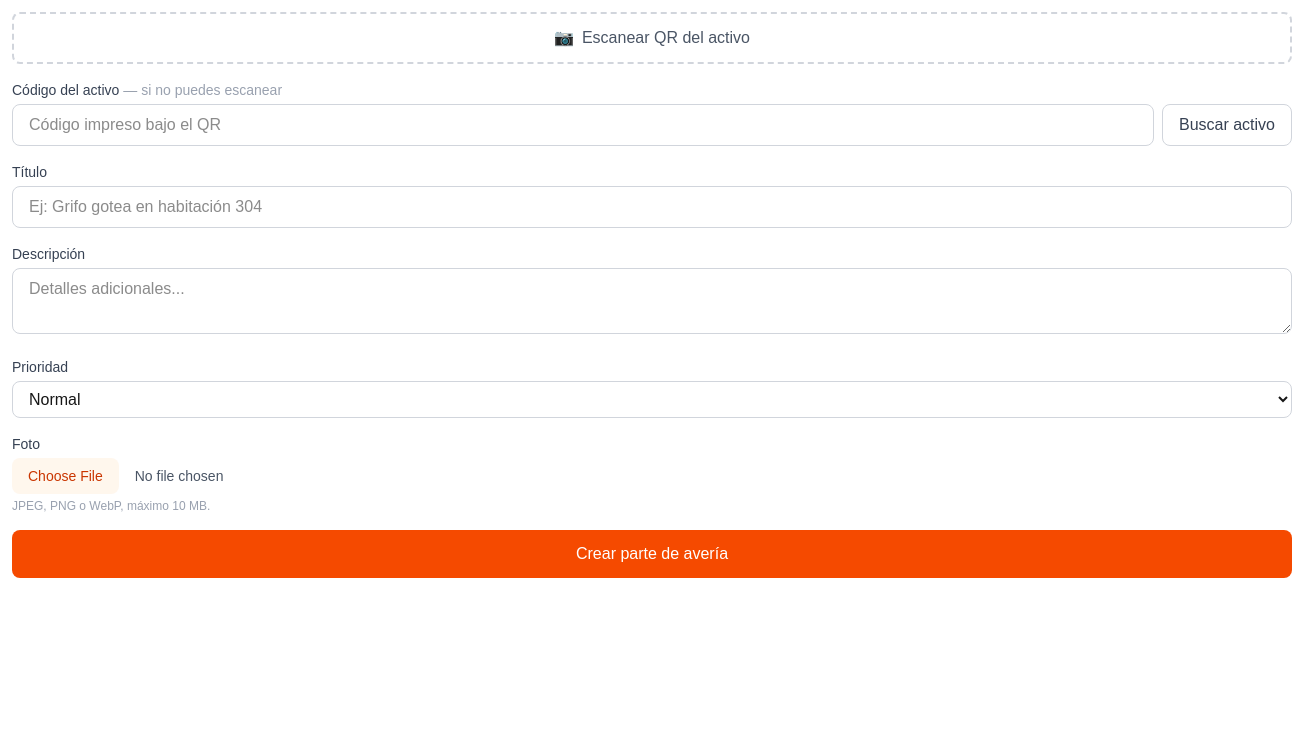
Scenario: TicketForm › falla cerrado sin sesión
The width and height of the screenshot is (1304, 732).
Type "Grifo gotea" into the field labelled "Título" at (652, 207), box [12,186,1292,228]
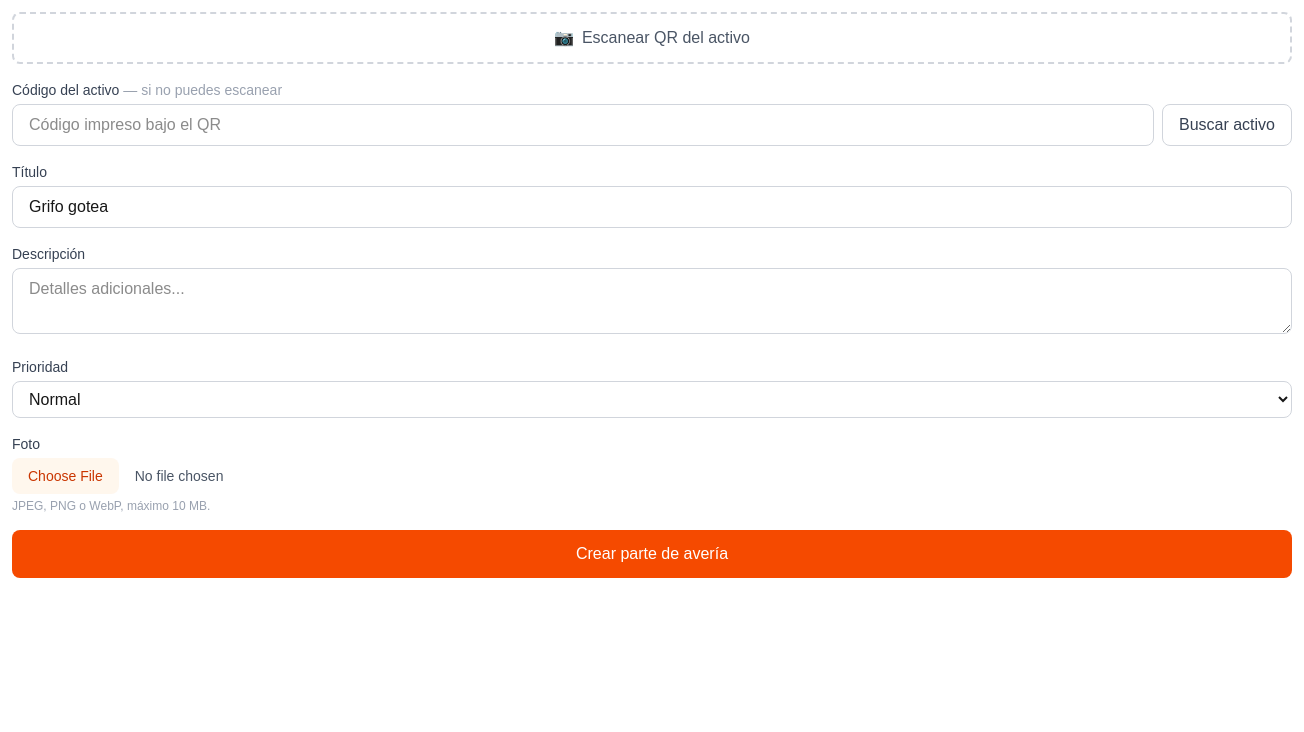
Submit the form named "crear parte"
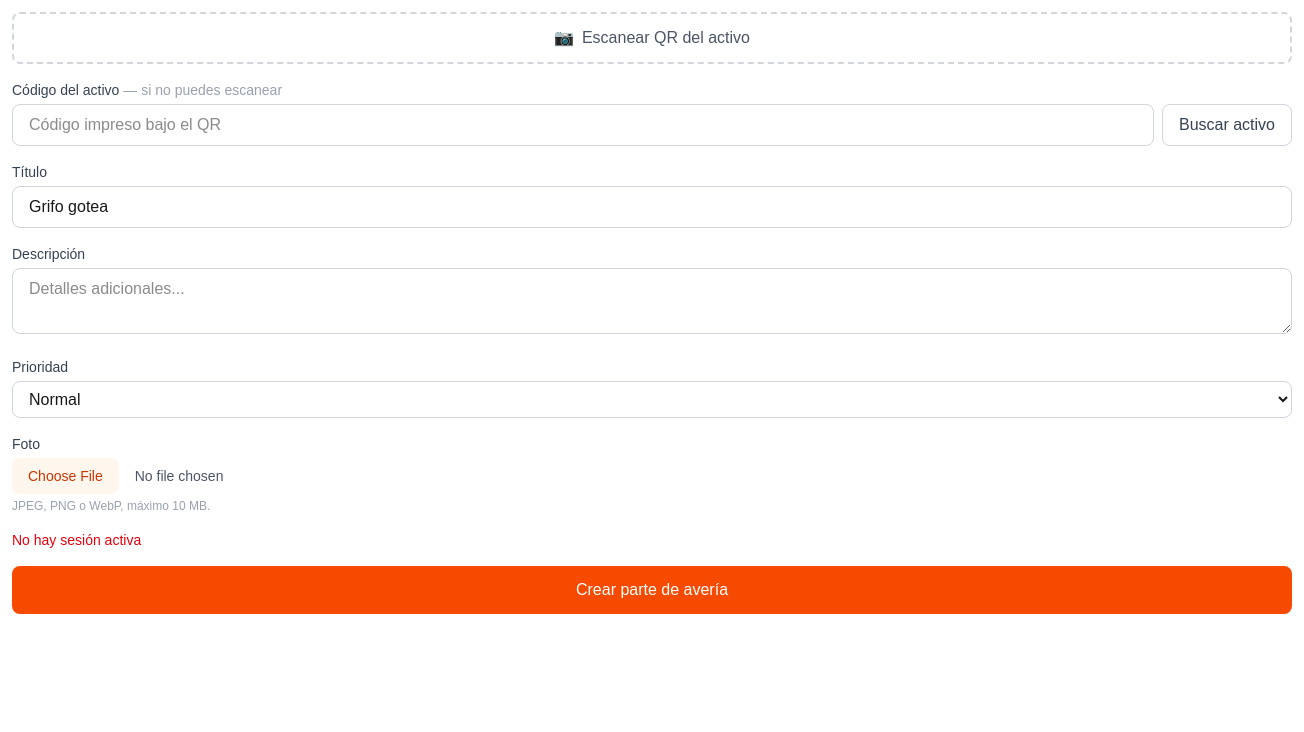
Check: the text "No hay sesión activa" is shown, box [12,532,141,548]
